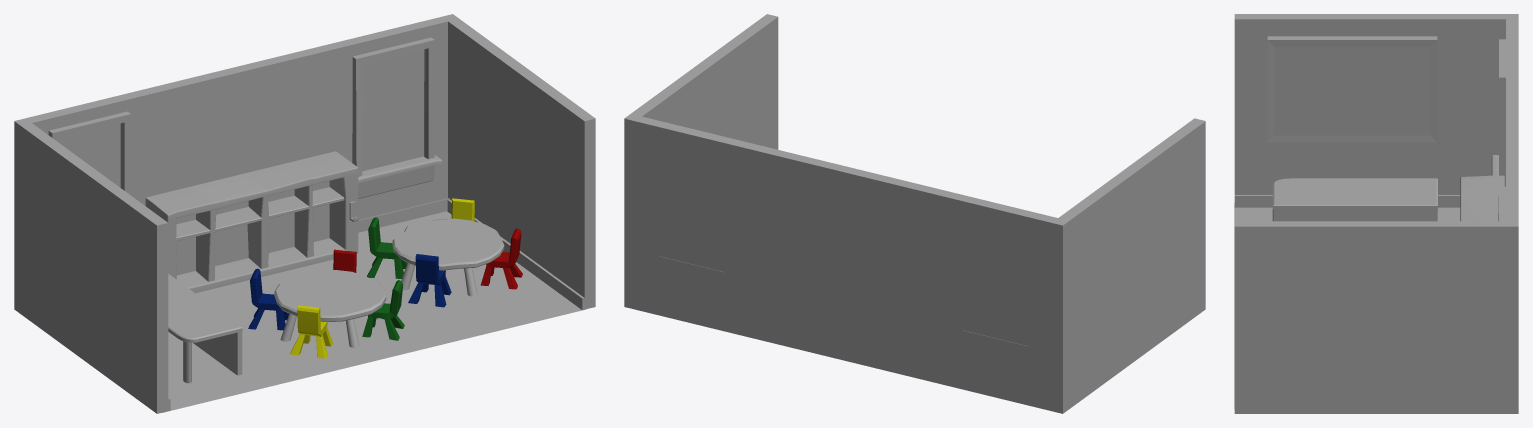
Rendered from PreschoolGrayBox.fbx.
3 renders of one model, left to right at view 1: azimuth 30°, elevation 25°; view 2: azimuth 150°, elevation 25°; view 3: azimuth 270°, elevation 25°, orthographic.
Visible parts, largest first — view 1: pCube62, pPlane1, pCube57, pCube61, pCylinder27, pCylinder28, pCylinder26, pCube55, pCube64, pCube56, pCube60, pCube59 (+4 smaller); view 2: pCube62, pCube61, pCube55; view 3: pCube62, pCube66, pCylinder27, pCube57, pCube55, pPlane1, pCube61.
Part boxes in pixels (box(x1,y1,x2,y2)): pCube62: box(14, 14, 595, 413); pPlane1: box(162, 211, 586, 412); pCube57: box(145, 151, 358, 293); pCube61: box(352, 37, 442, 198); pCylinder27: box(168, 274, 242, 383); pCylinder28: box(274, 270, 386, 321); pCylinder26: box(392, 218, 504, 270); pCube55: box(48, 111, 130, 195); pCube64: box(290, 305, 333, 358); pCube56: box(408, 254, 451, 307); pCube60: box(362, 280, 404, 340); pCube59: box(480, 228, 522, 289); pCube62: box(624, 14, 1205, 413); pCube61: box(652, 137, 730, 277); pCube55: box(956, 211, 1034, 351); pCube62: box(1234, 14, 1518, 413); pCube66: box(1267, 36, 1437, 142); pCylinder27: box(1272, 178, 1437, 221); pCube57: box(1460, 175, 1504, 221); pCube55: box(1491, 39, 1505, 186); pPlane1: box(1234, 203, 1460, 409); pCube61: box(1498, 186, 1505, 221).
Size of the model in its own units: 23.4 by 9.61 by 13.22.
